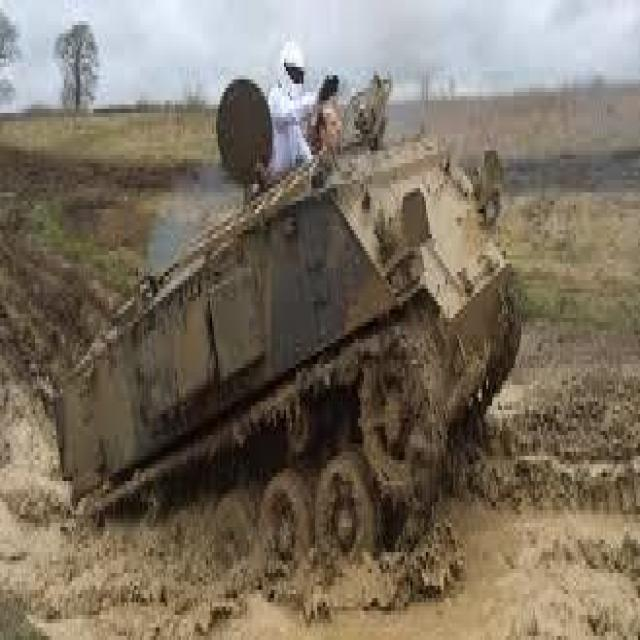Tanks: (46, 155, 542, 581)
